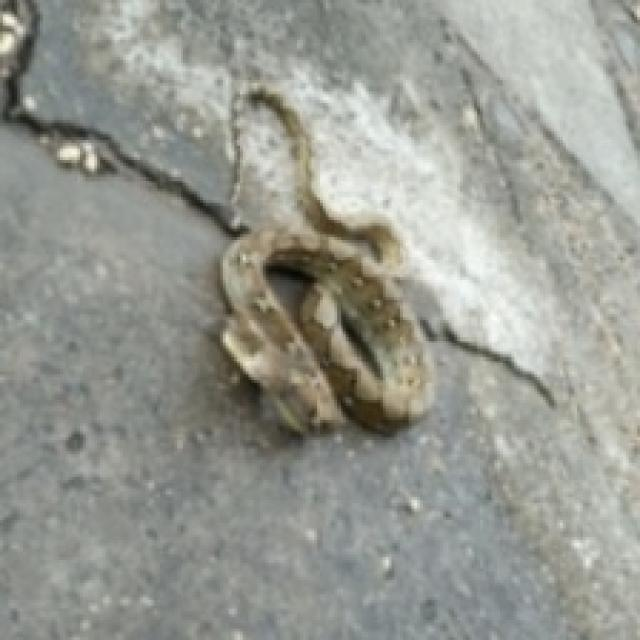reticulated python: (220, 83, 431, 431), (220, 89, 431, 431)
